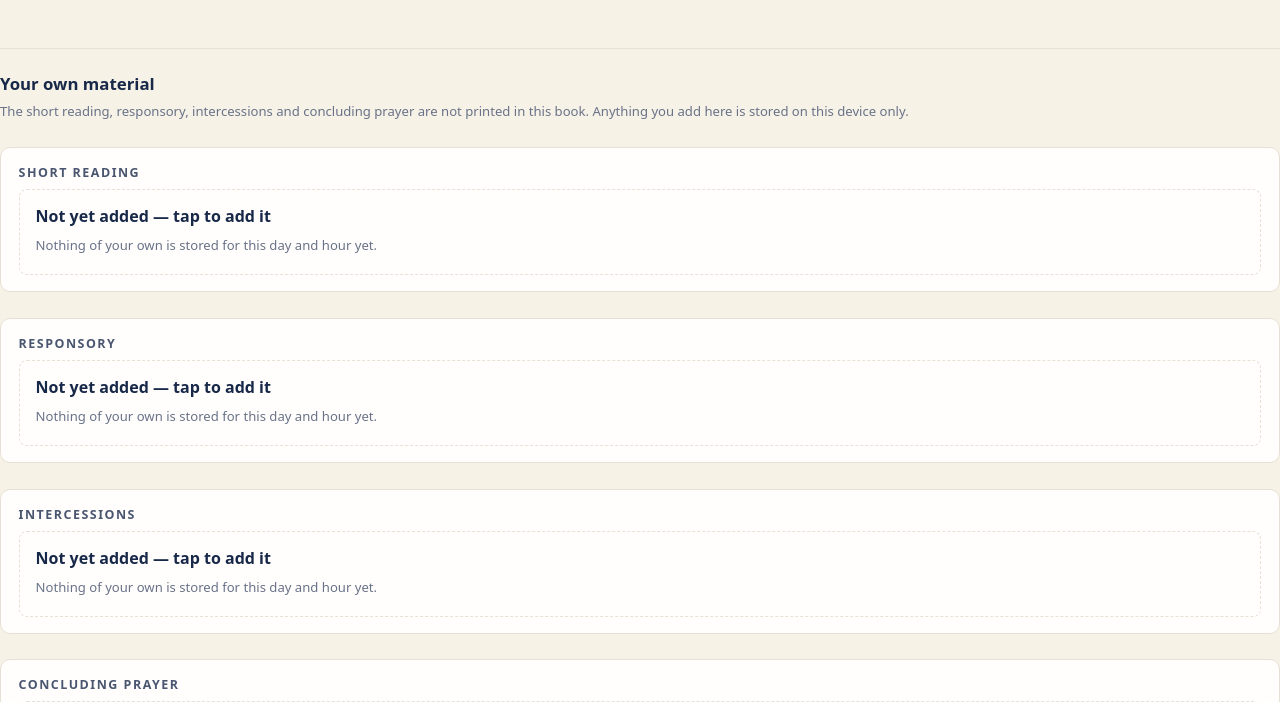
2: each section can be added and appears at once › reading
This screenshot has width=1280, height=702.
Click the button with aria-label "Add the short reading" at [153, 216], box [19, 189, 1261, 275]
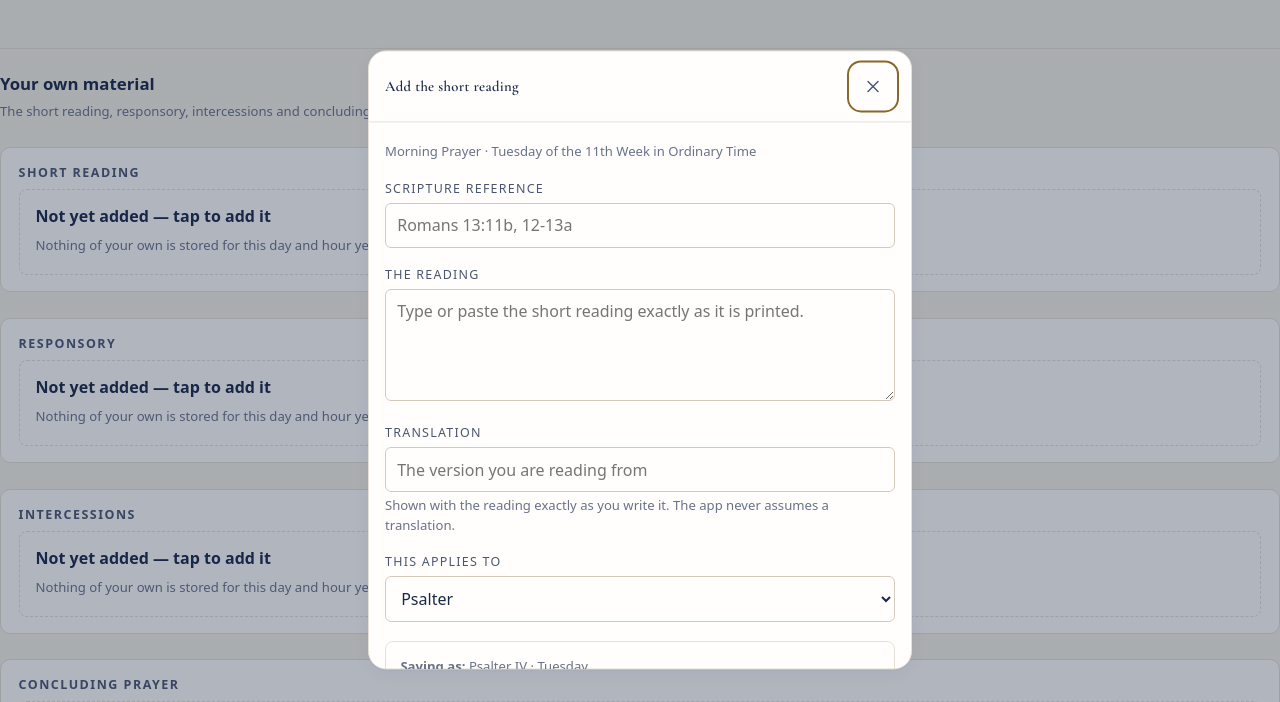
Type "It is now the hour for us to rise from sleep." into the text box labelled "The reading" at [640, 345], box [385, 289, 895, 401]
(page scrolled)
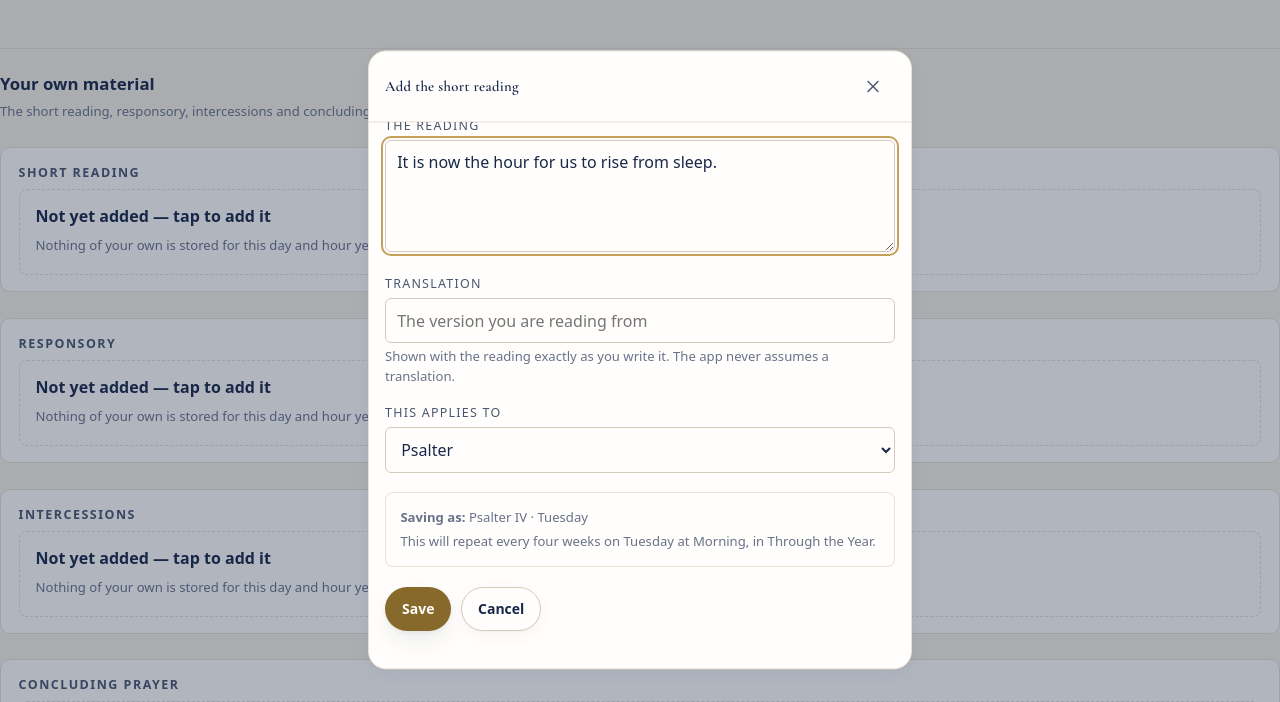
Click the button "Save" at [418, 609], box [385, 587, 451, 631]
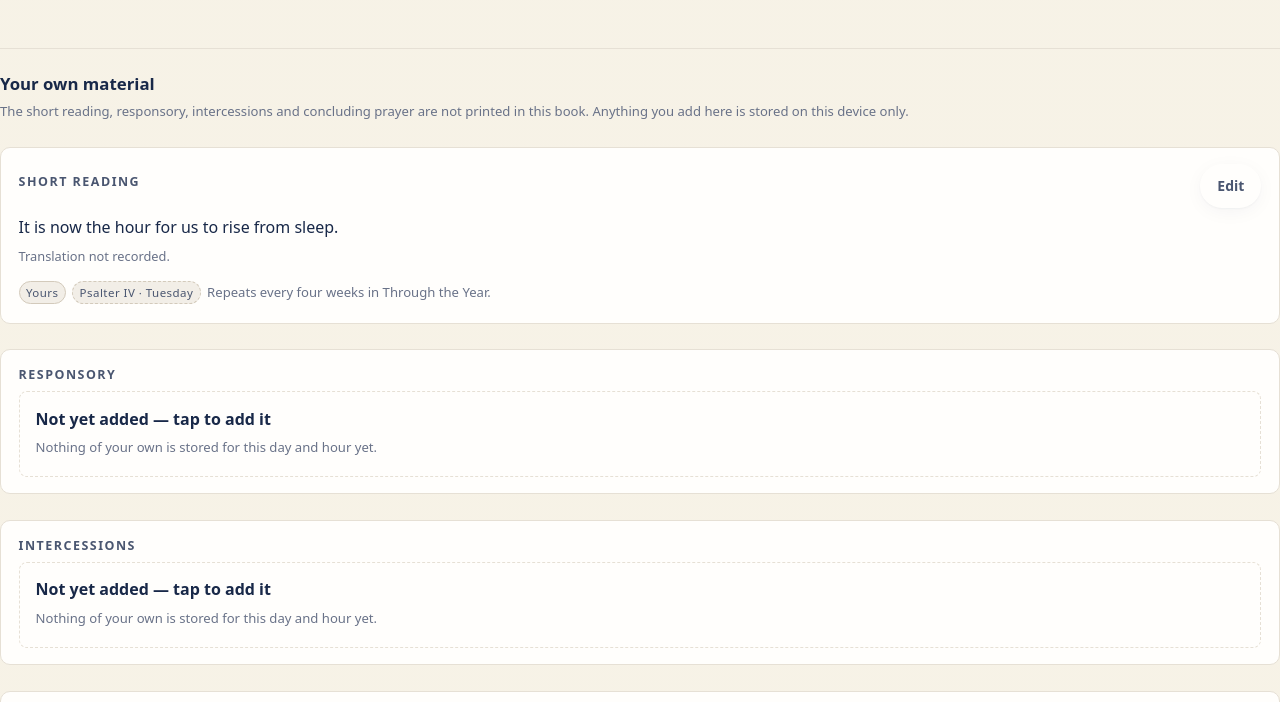
Expected: the text "It is now the hour for us to rise from sleep." is shown, [19, 216, 338, 238]
